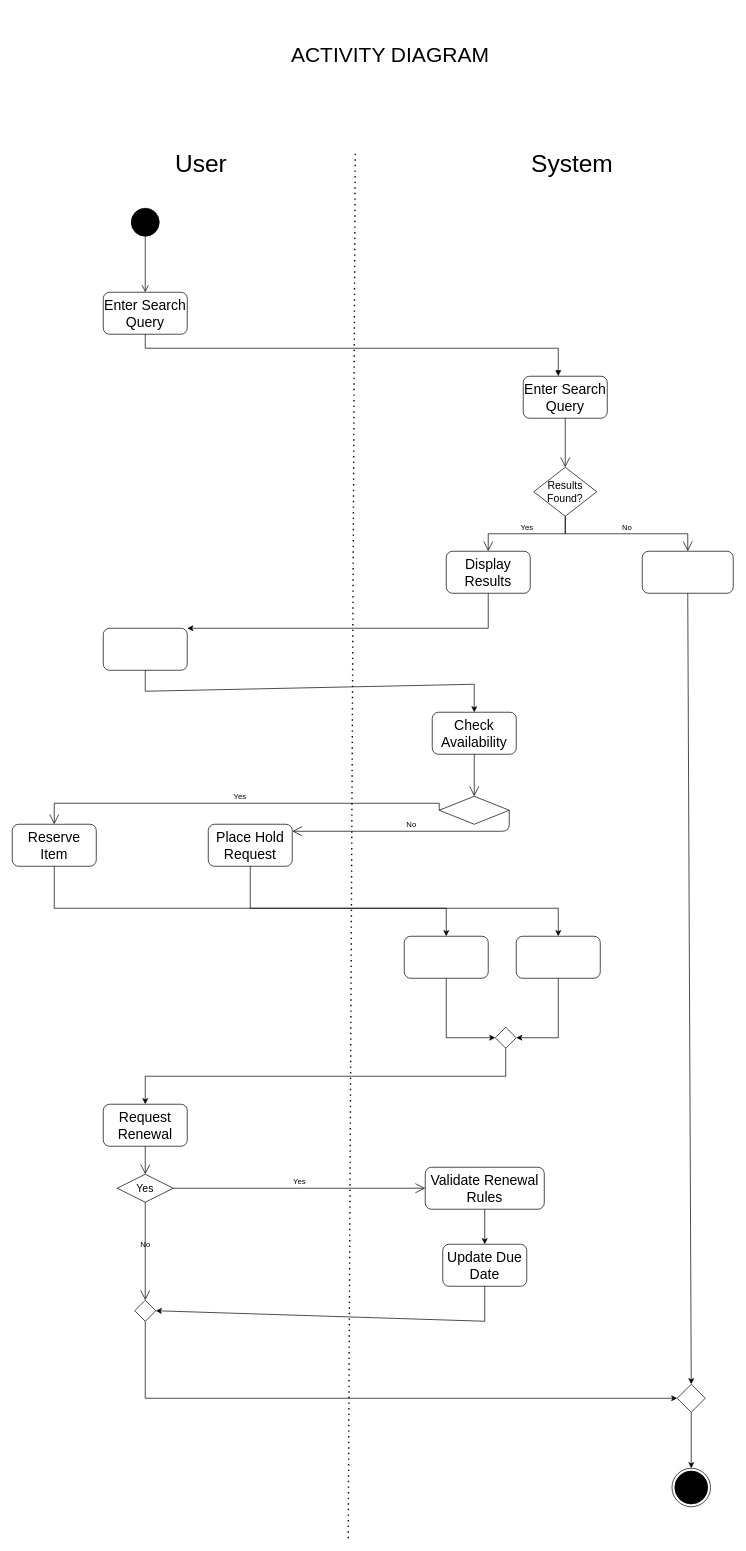
Image size: 746x1551. Some labels were removed from this diagram. The shapes that lost their labels are listed below. From the top down, each one's centre as x and y in pixels, then its label:
(x=687, y=572): Display "No results found"
(x=145, y=649): Select Item
(x=474, y=810): Item Available?
(x=446, y=957): Update Item Status
(x=558, y=957): Add Users to Waitlist
